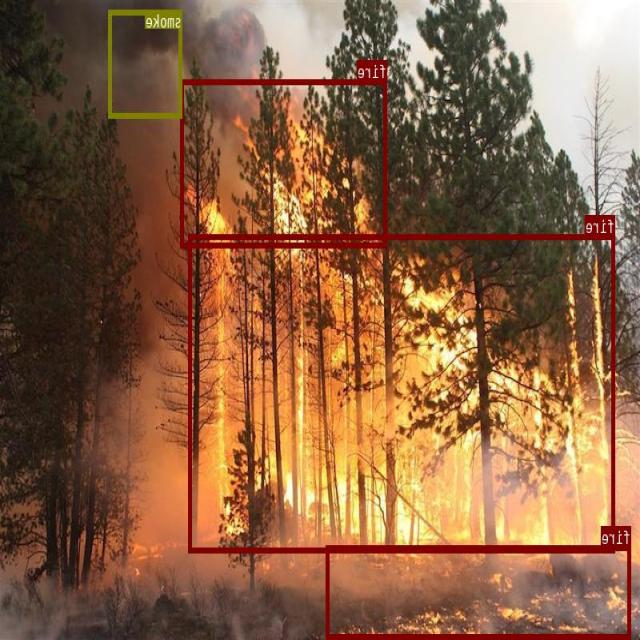fire: (189, 233, 616, 552), (181, 79, 388, 246), (328, 544, 632, 638)
smoke: (110, 9, 182, 118)
